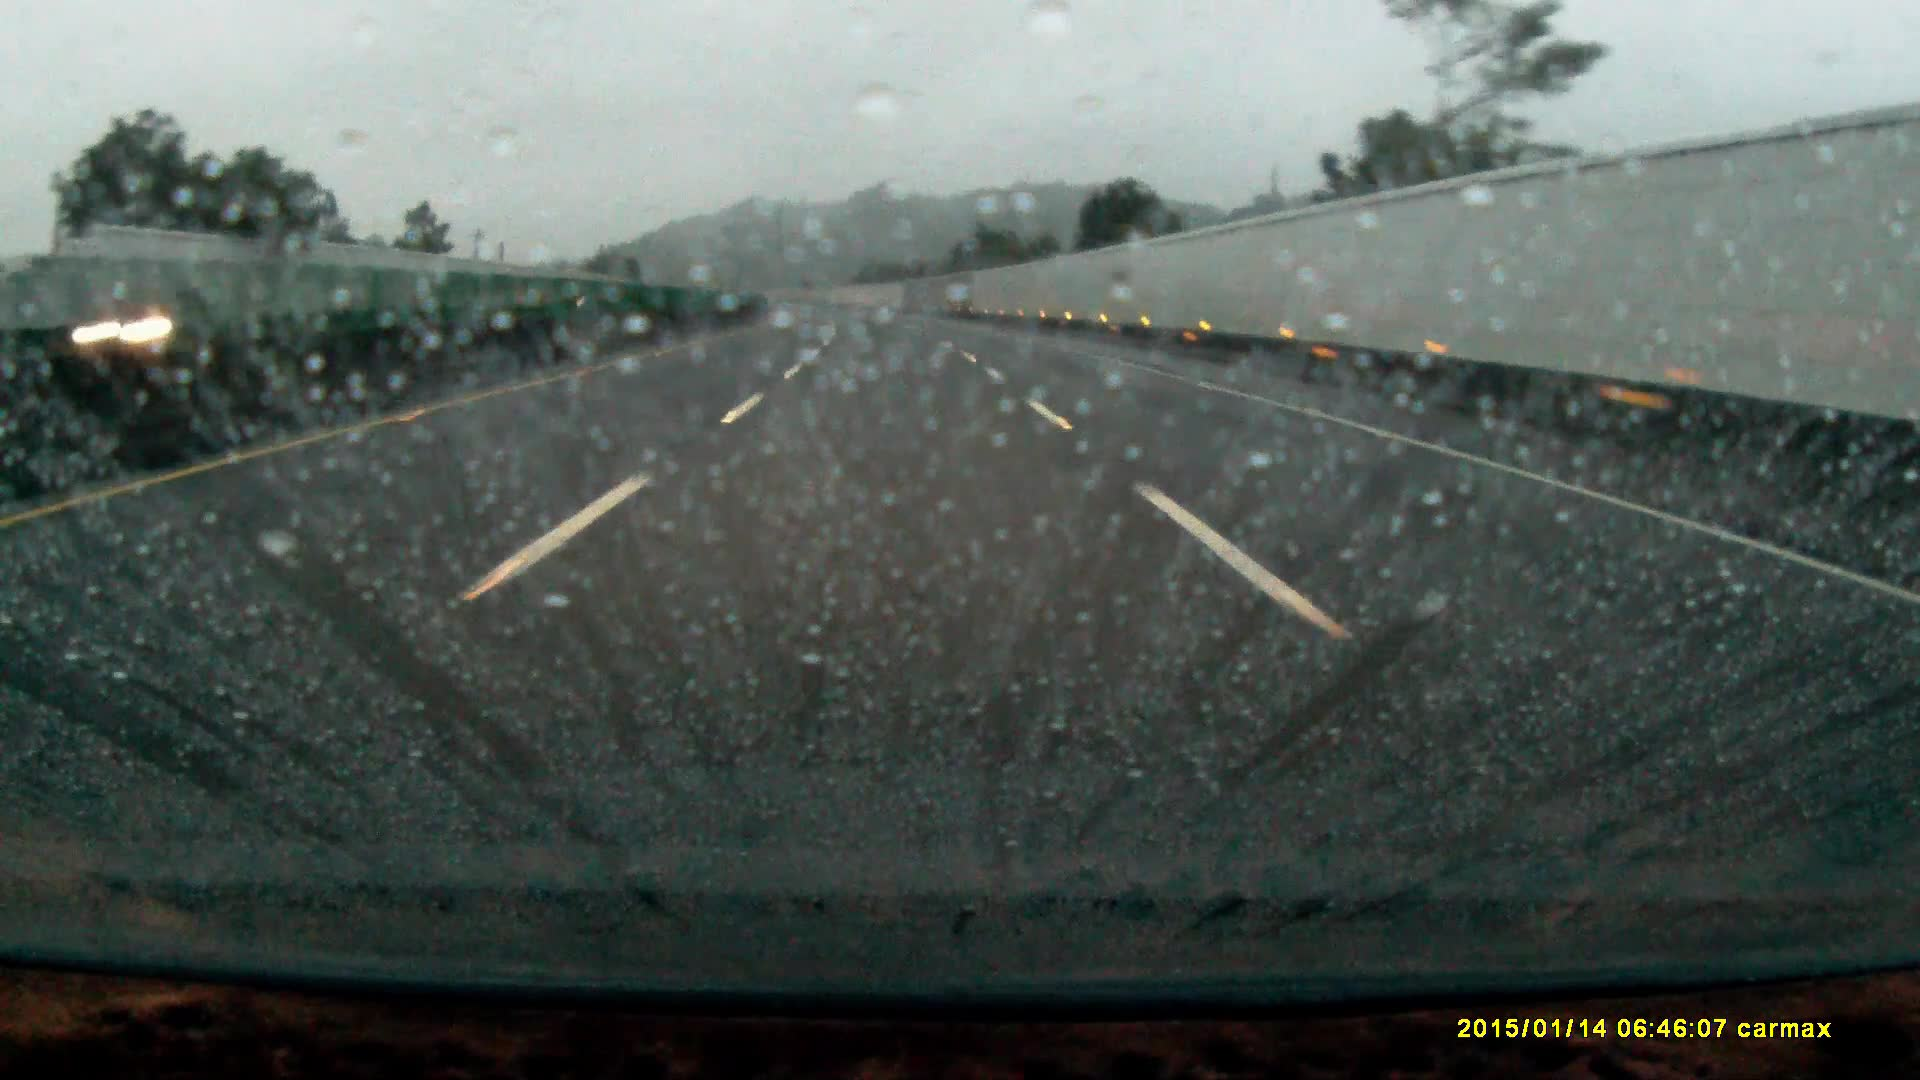vehicle: (67, 293, 248, 349)
